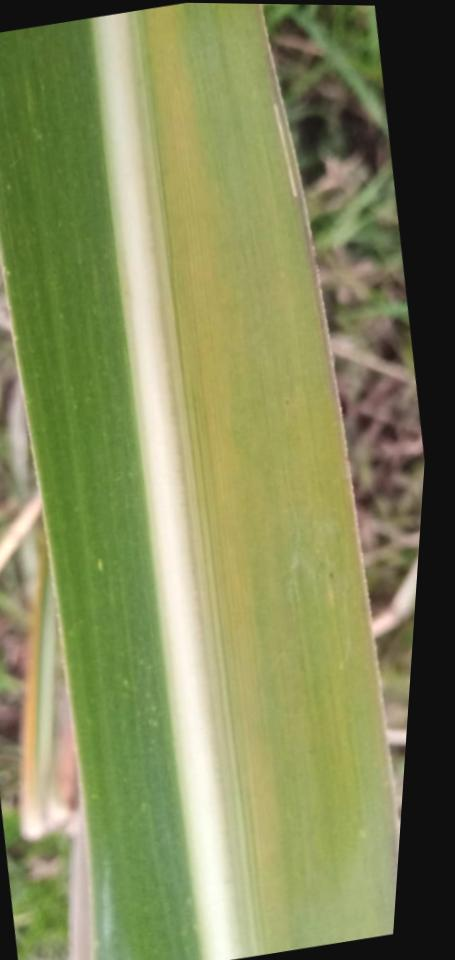Yellow: (146, 5, 295, 954)
